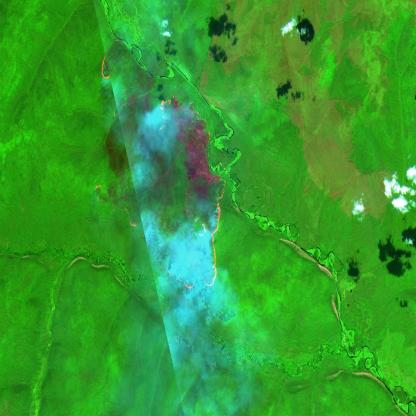fire: (168, 181, 228, 297), (155, 92, 178, 134), (96, 52, 116, 90)
